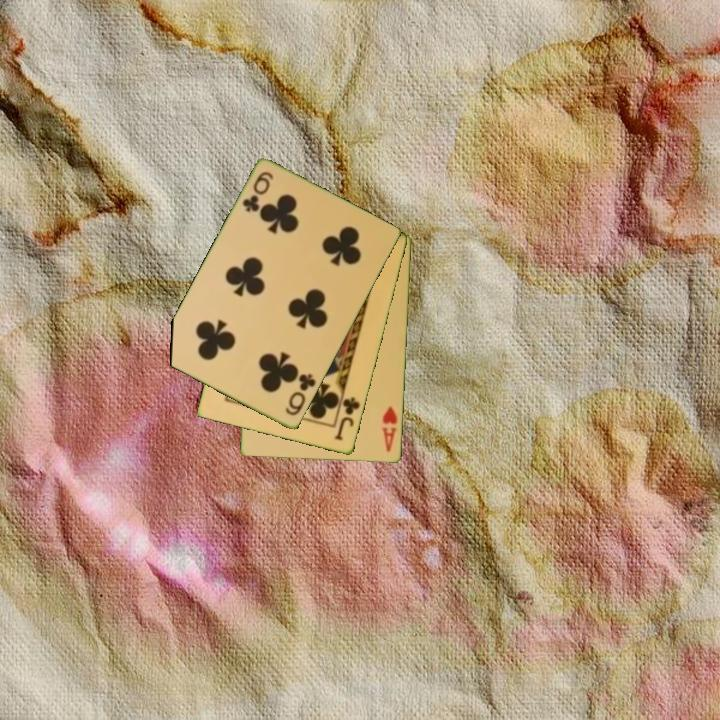6c: (281, 370, 319, 419), (239, 168, 277, 216)
Ah: (378, 403, 401, 455)
Jc: (331, 393, 363, 444)
